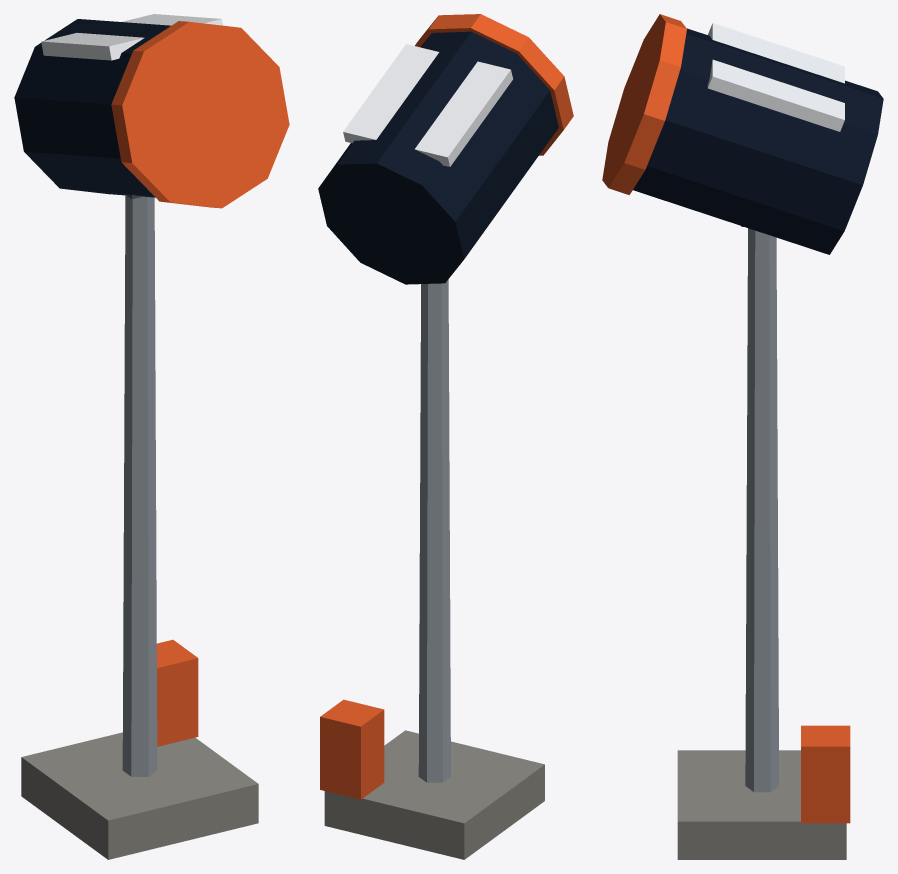
The model's file is snow-gun.glb.
3 views of the same model, side by side, from view 1: azimuth 30°, elevation 25°; view 2: azimuth 150°, elevation 25°; view 3: azimuth 270°, elevation 25° (orthographic). The views are drawn at different scales.
Parts seen in each view (by area): view 1: snow-gun; view 2: snow-gun; view 3: snow-gun.
Boxes of the visible parts, x1,y1,x2,y2 form: snow-gun: (14,14,289,859); snow-gun: (318,14,573,859); snow-gun: (602,14,883,859).
Bounding box in the file's own units: 1.26 × 6.28 × 2.
